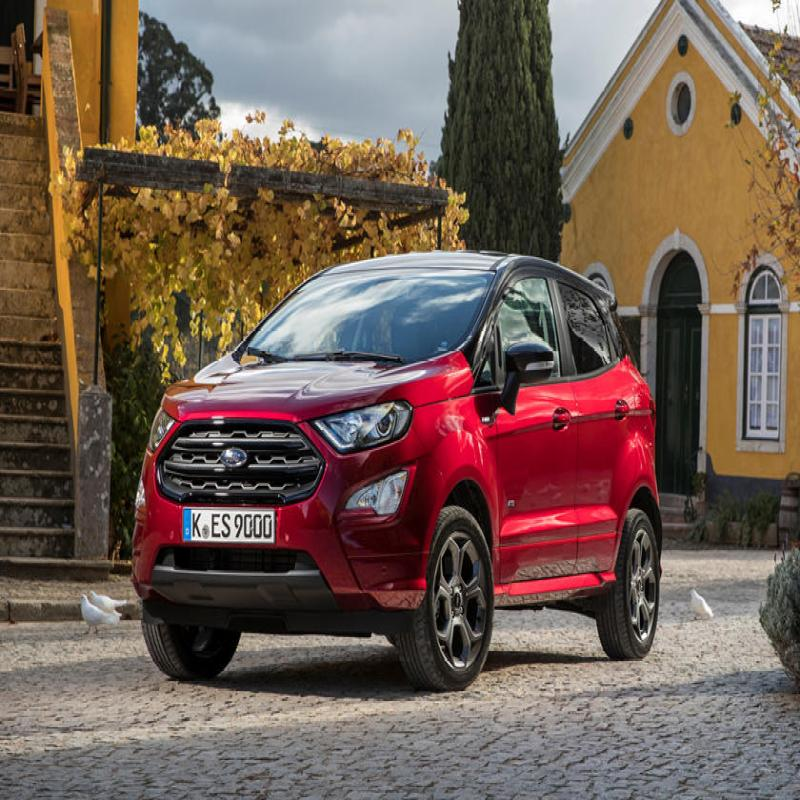car: (137, 253, 671, 688)
